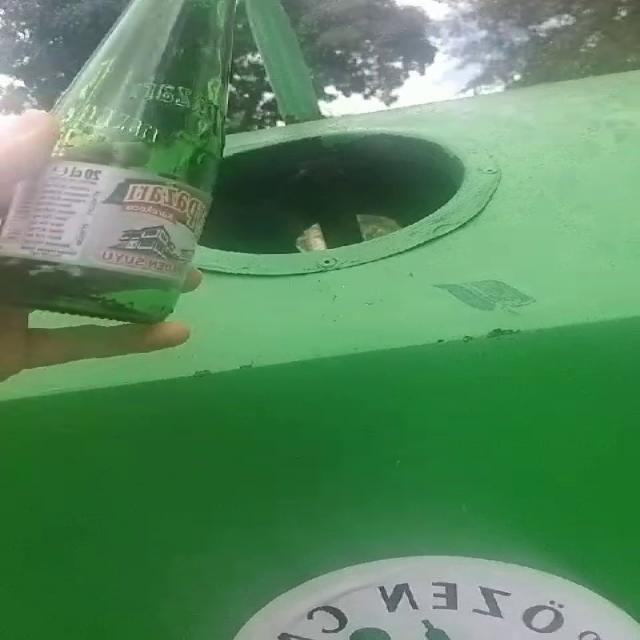Glass: (1, 0, 233, 323)
